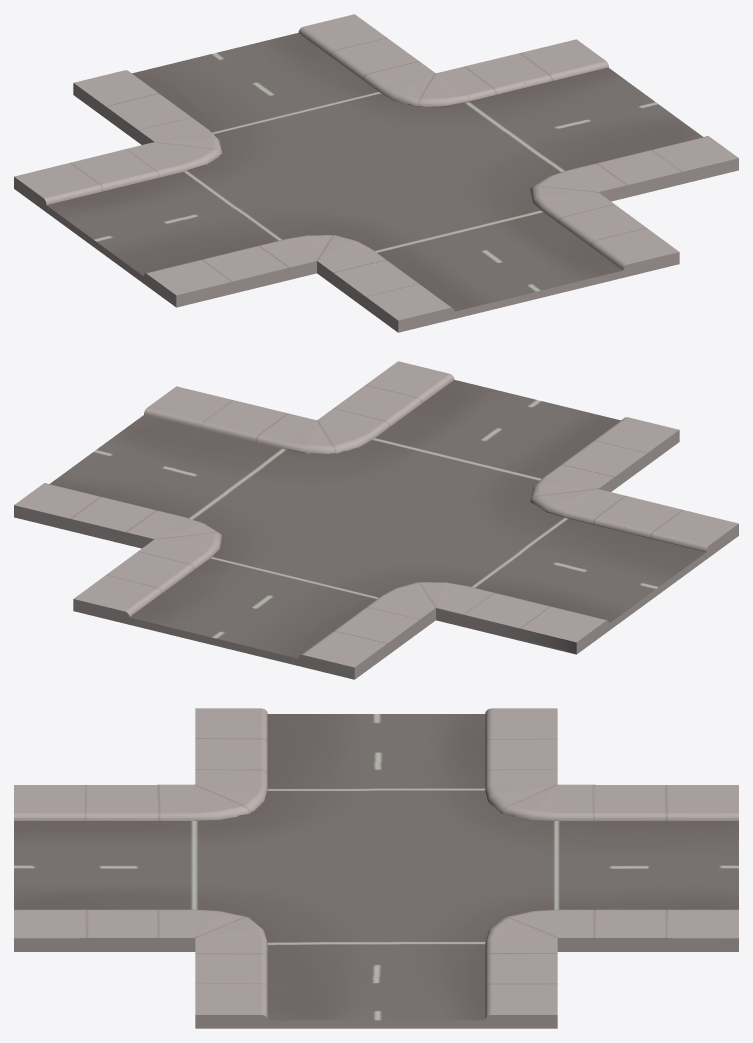
The model's file is Street_Intersection.fbx.
3 renders of one model, top to bottom at view 1: azimuth 30°, elevation 25°; view 2: azimuth 150°, elevation 25°; view 3: azimuth 270°, elevation 25°, orthographic. The views are drawn at different scales.
Visible parts, largest first — view 1: Street_Intersection; view 2: Street_Intersection; view 3: Street_Intersection.
Boxes of the visible parts, x1,y1,x2,y2 form: Street_Intersection: [14, 14, 738, 332]; Street_Intersection: [14, 361, 738, 679]; Street_Intersection: [14, 708, 738, 1028].
Size of the model in its own units: 2000 by 42.46 by 2000.
